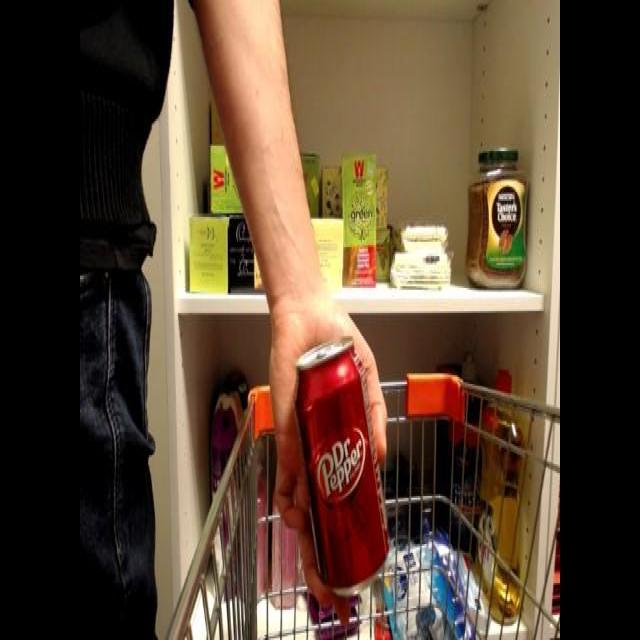Dr Pepper: (294, 332, 388, 604)
